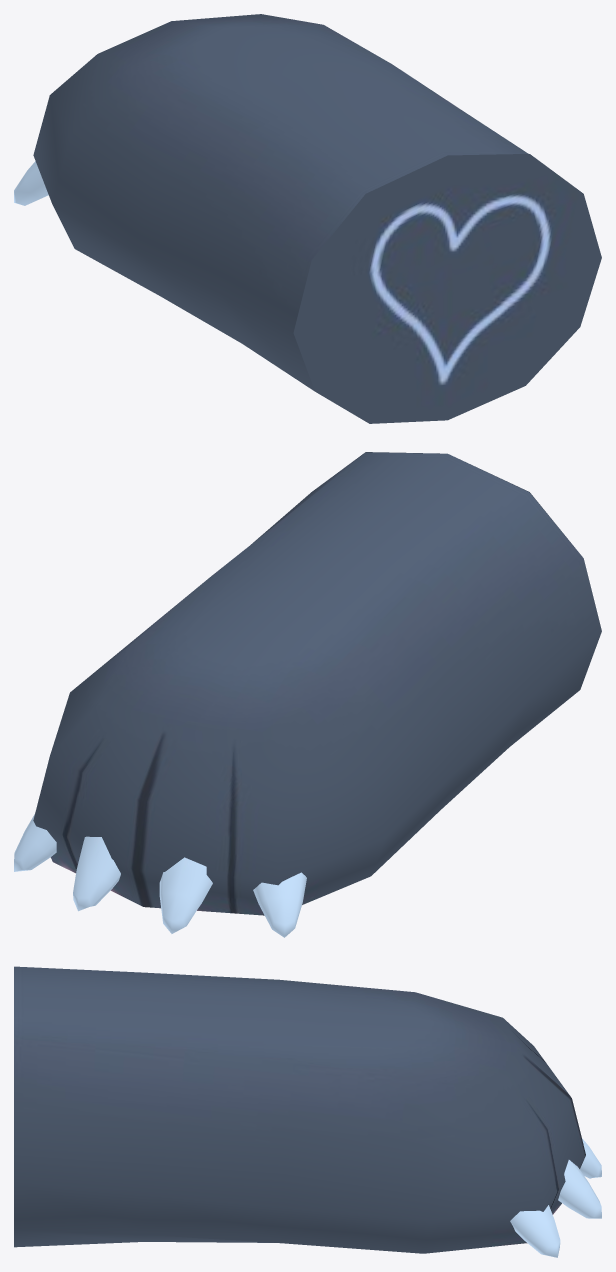
The model's file is paw.glb.
3 renders of one model, top to bottom at view 1: azimuth 30°, elevation 25°; view 2: azimuth 150°, elevation 25°; view 3: azimuth 270°, elevation 25°, orthographic. The views are drawn at different scales.
Visible parts, largest first — view 1: Body.001; view 2: Body.001; view 3: Body.001.
Boxes of the visible parts, bbox=[...] form: Body.001: bbox=[14, 14, 601, 423]; Body.001: bbox=[14, 452, 601, 937]; Body.001: bbox=[14, 966, 601, 1257].
Bounding box in the file's own units: 0.0808 × 0.0614 × 0.1357.
1 material, 1 textured.
